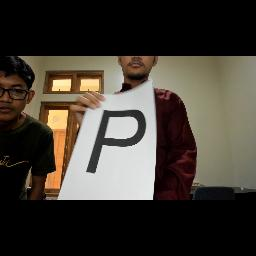p: (84, 104, 150, 182)
